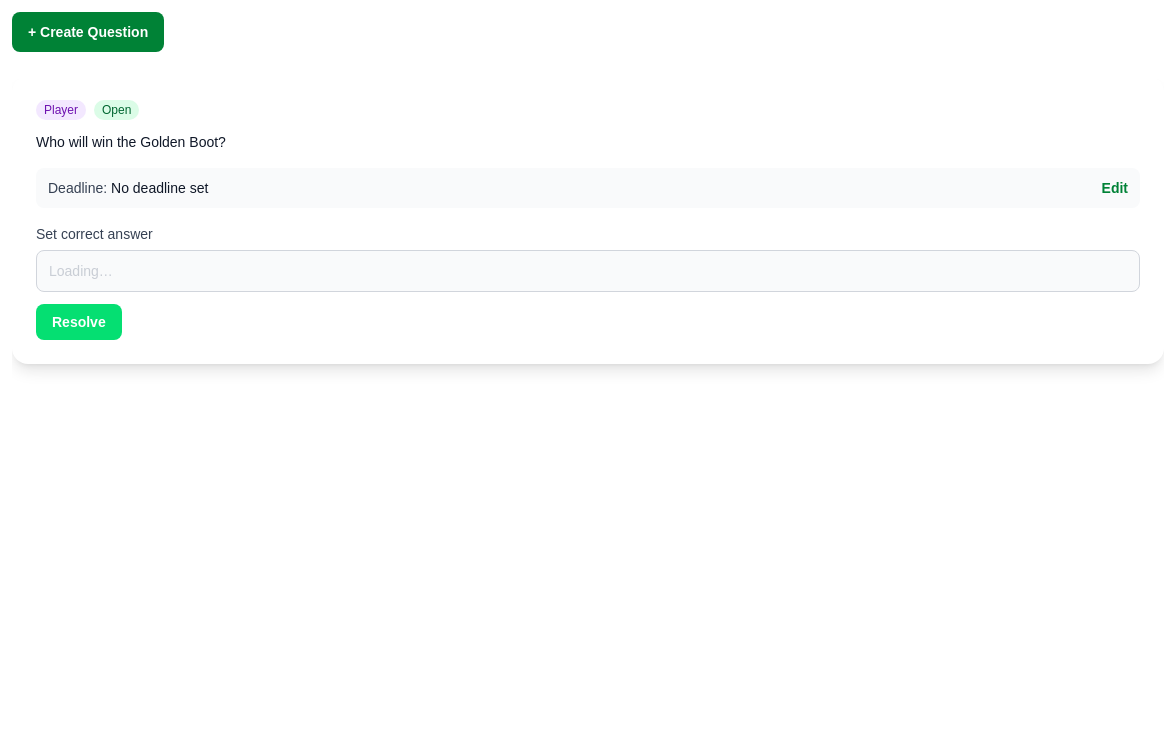
Test: AdminExtraQuestionsClient › shows an inline error when updateQuestionDeadline returns INVALID_INPUT
Click the button "Edit": point(1115, 188) [1102,178,1128,198]
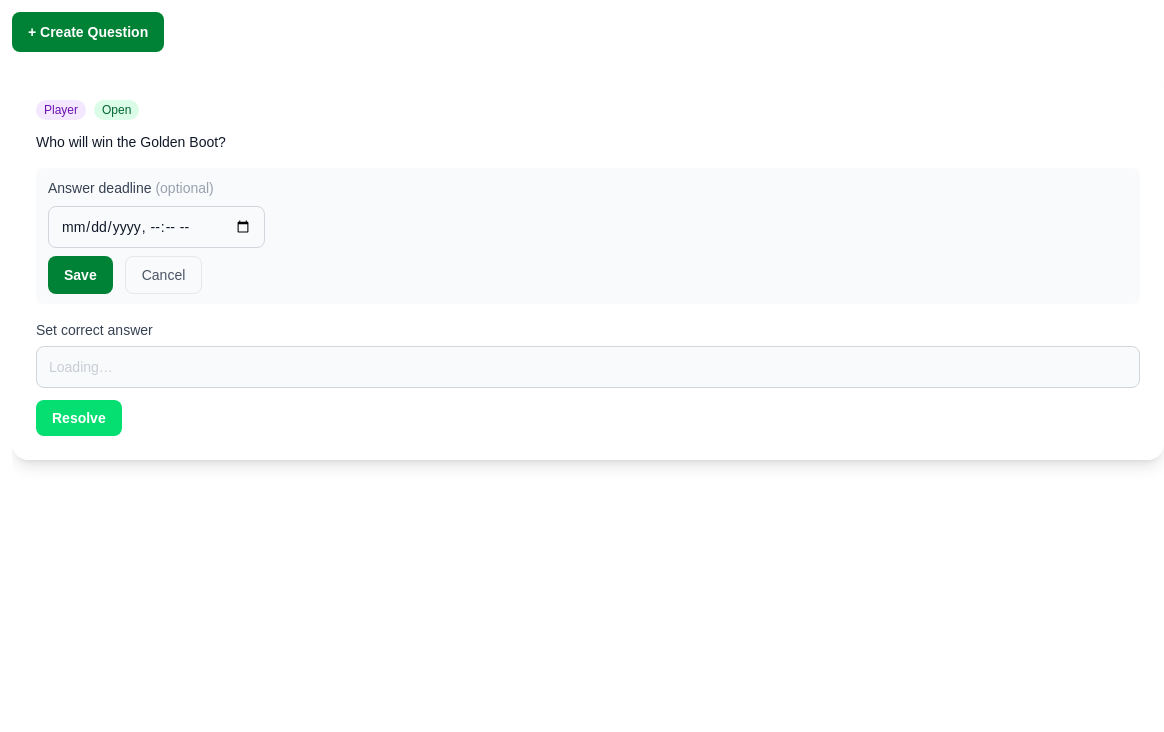
Click the button "Save": point(80, 275) [48,256,113,294]
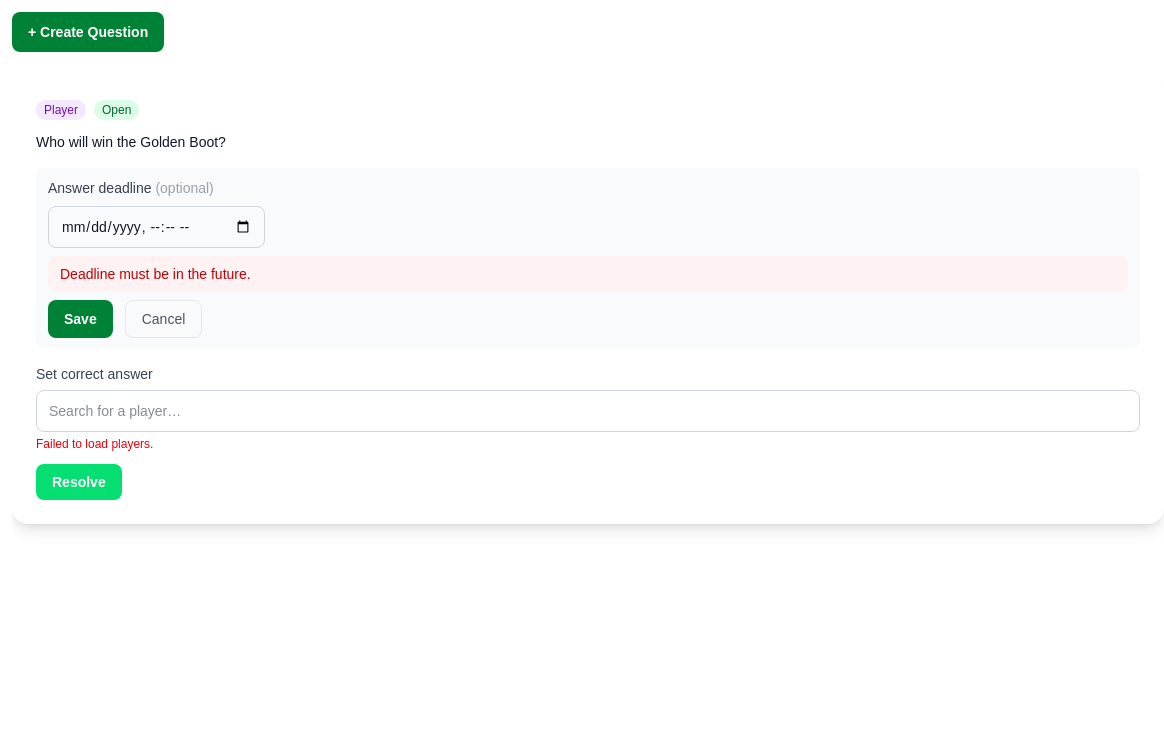
Check: the message shows "Deadline must be in the future", box [60,266,251,282]
